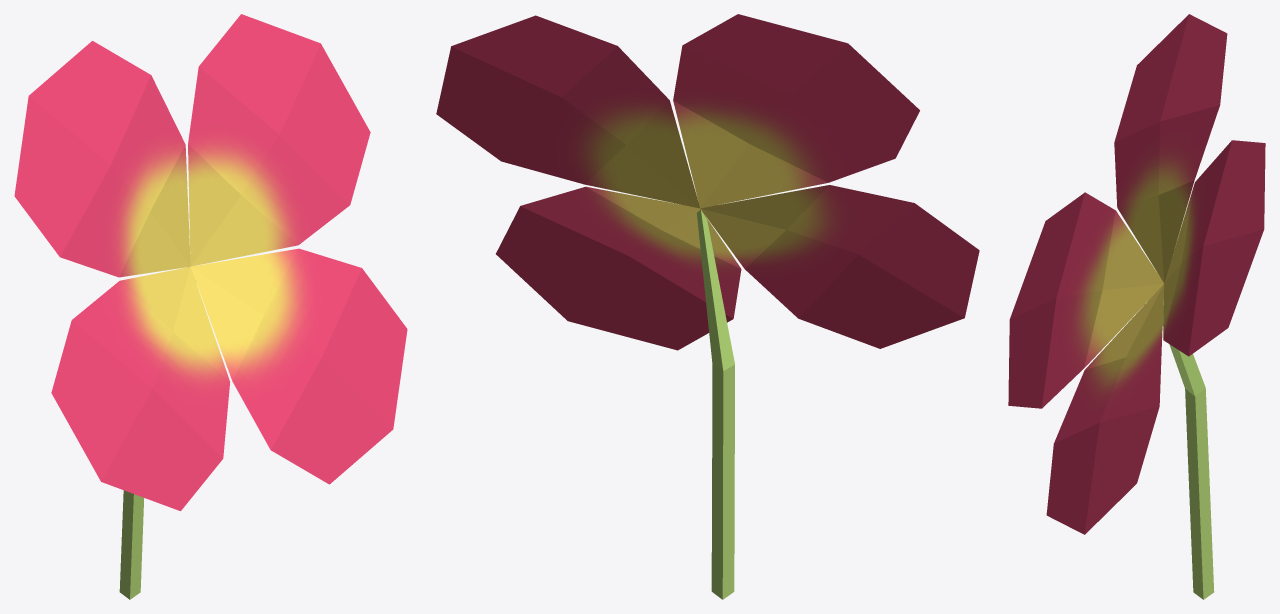
The model's file is Flower_c_TwoS_04.fbx.
3 renders of one model, left to right at view 1: azimuth 30°, elevation 25°; view 2: azimuth 150°, elevation 25°; view 3: azimuth 270°, elevation 25°, orthographic. The views are drawn at different scales.
Visible parts, largest first — view 1: Flower_c_TwoS_04; view 2: Flower_c_TwoS_04; view 3: Flower_c_TwoS_04.
Boxes of the visible parts, x1,y1,x2,y2 form: Flower_c_TwoS_04: [14, 14, 407, 599]; Flower_c_TwoS_04: [436, 14, 979, 599]; Flower_c_TwoS_04: [1008, 14, 1265, 599].
Bounding box in the file's own units: 27.42 × 35.19 × 14.93.
